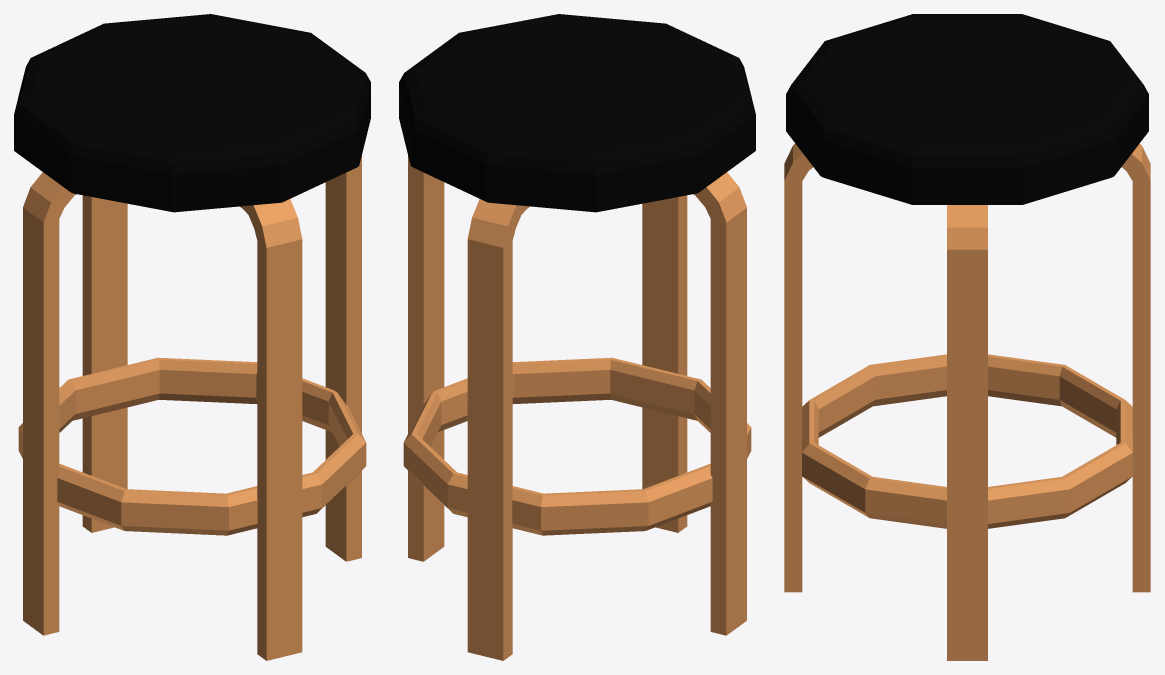
Rendered from prop_baarijakkara.fbx.
3 renders of one model, left to right at view 1: azimuth 30°, elevation 25°; view 2: azimuth 150°, elevation 25°; view 3: azimuth 270°, elevation 25°, orthographic.
Parts seen in each view (by area): view 1: Cylinder; view 2: Cylinder; view 3: Cylinder.
Boxes of the visible parts, left/top/right/bottom form: Cylinder: left=14, top=14, right=370, bottom=660; Cylinder: left=399, top=14, right=755, bottom=660; Cylinder: left=784, top=14, right=1150, bottom=660.
Size of the model in its own units: 129 by 196 by 129.
